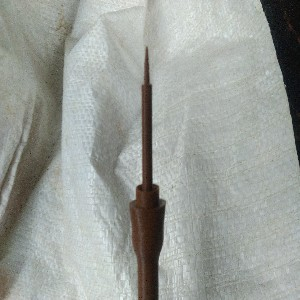solder: (128, 45, 167, 300)
